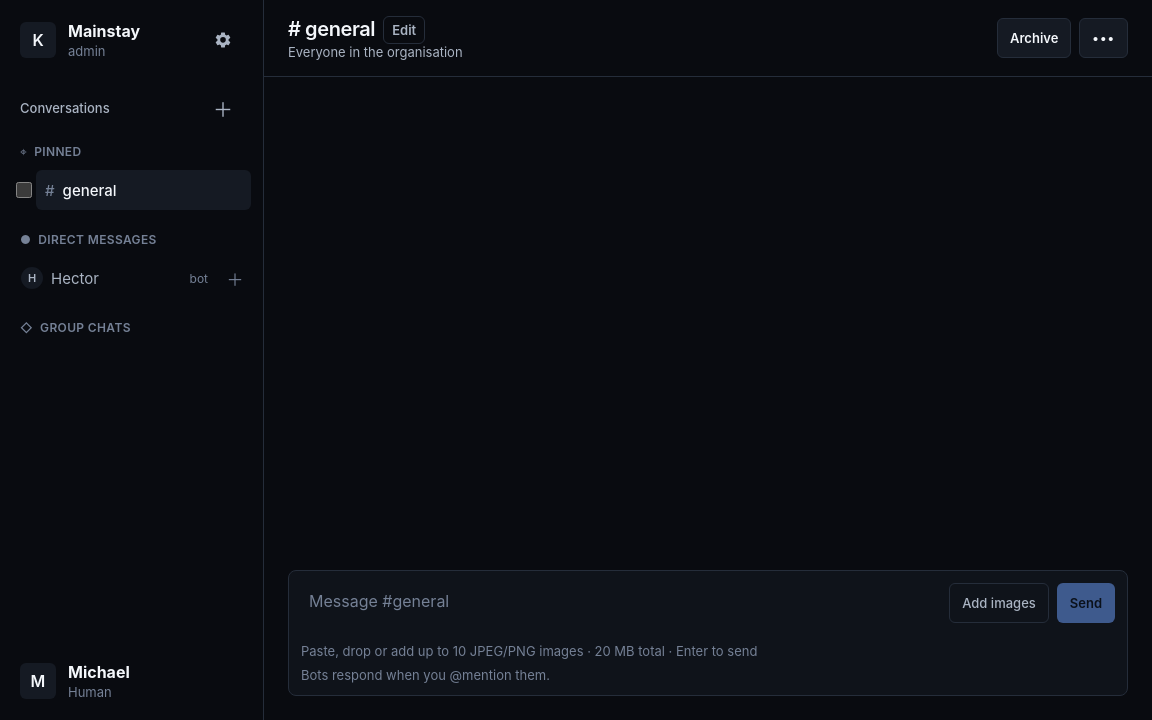
Scenario: K-Mainstay UI › starts a direct chat without a dialog and creates it when the first message is sent
Click the button with test id "new-direct-topic-b1" at [235, 278], box [219, 262, 251, 294]
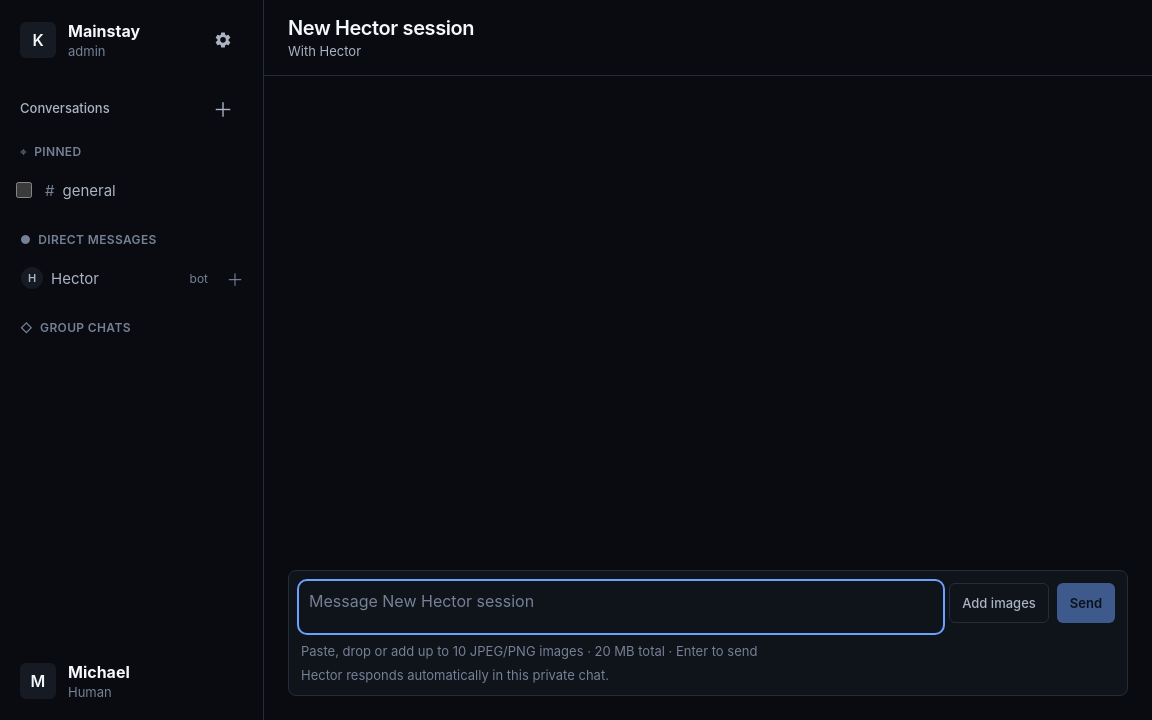
Result: the heading "New Hector session" is shown at [288, 16, 474, 41]
Type "Improve agent navigation" into the dropdown with placeholder "Message New Hector session" at [621, 607], box [301, 583, 941, 631]
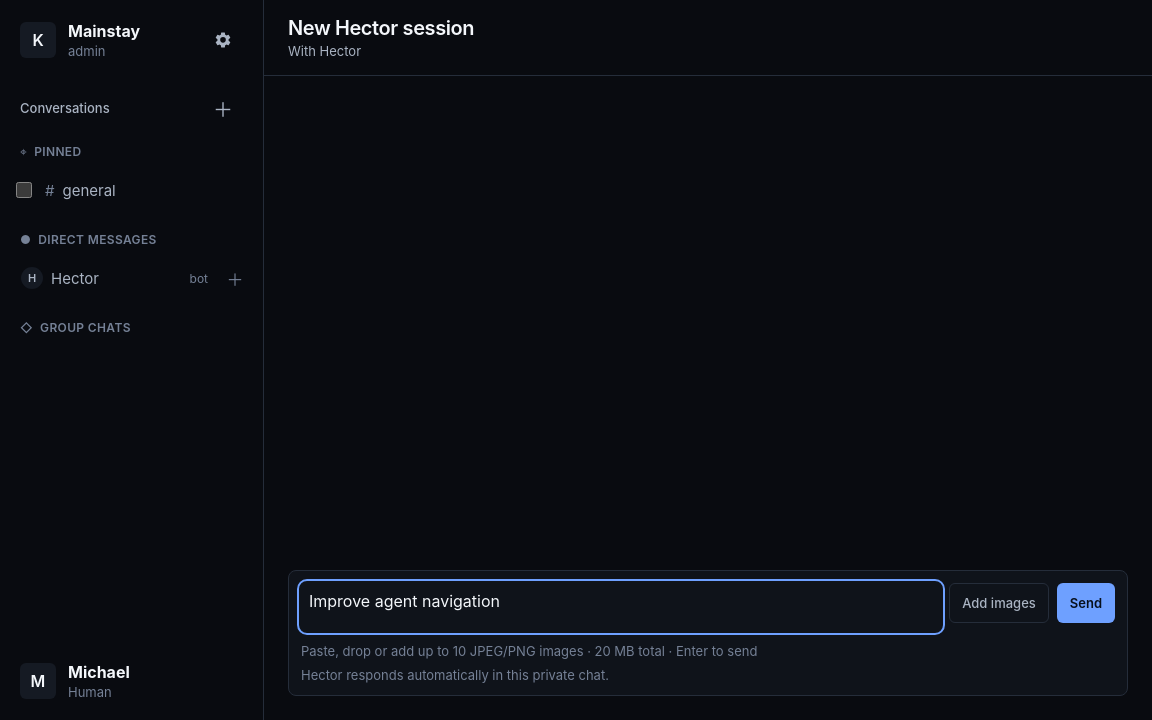
Submit the form with test id "composer", box [288, 570, 1128, 696]
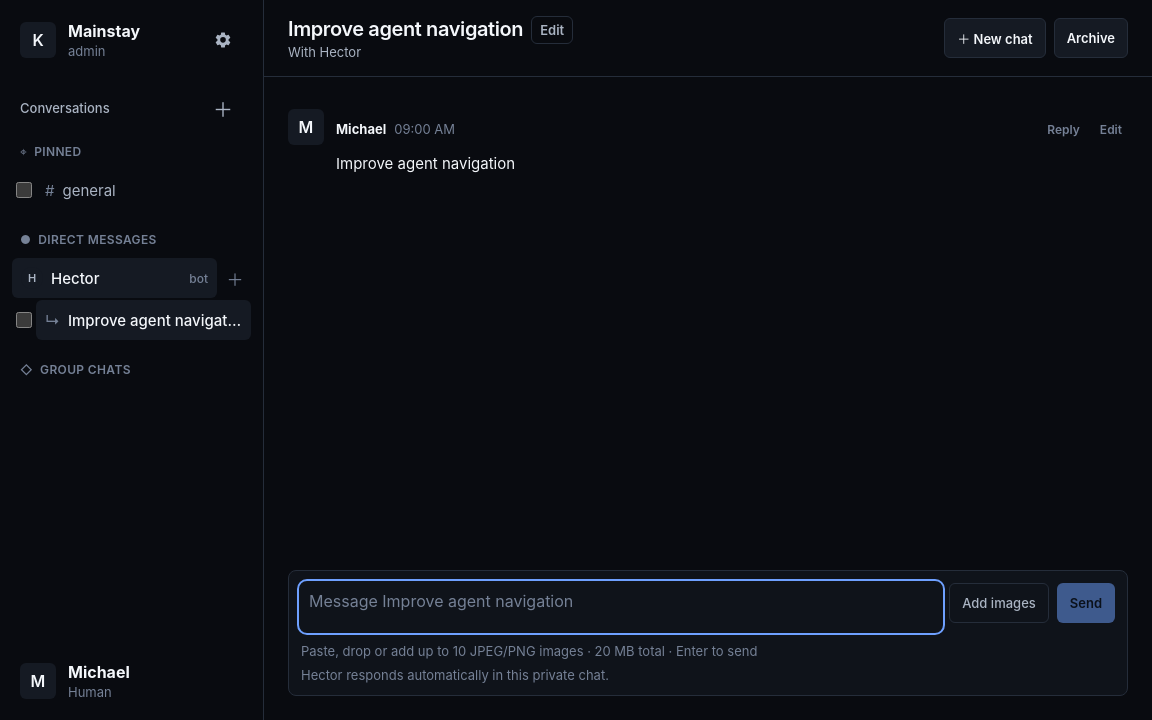
Result: the text "Improve agent navigation" is shown at [68, 310, 242, 330]
Result: the heading "Improve agent navigation" is shown at [288, 16, 523, 42]
